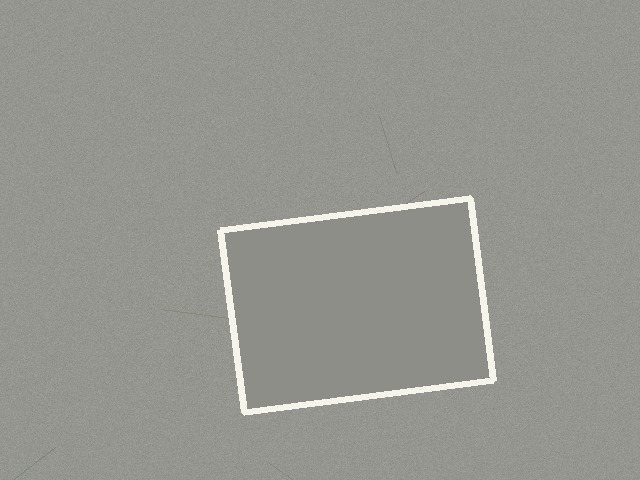parking_area: (220, 198, 493, 412)
